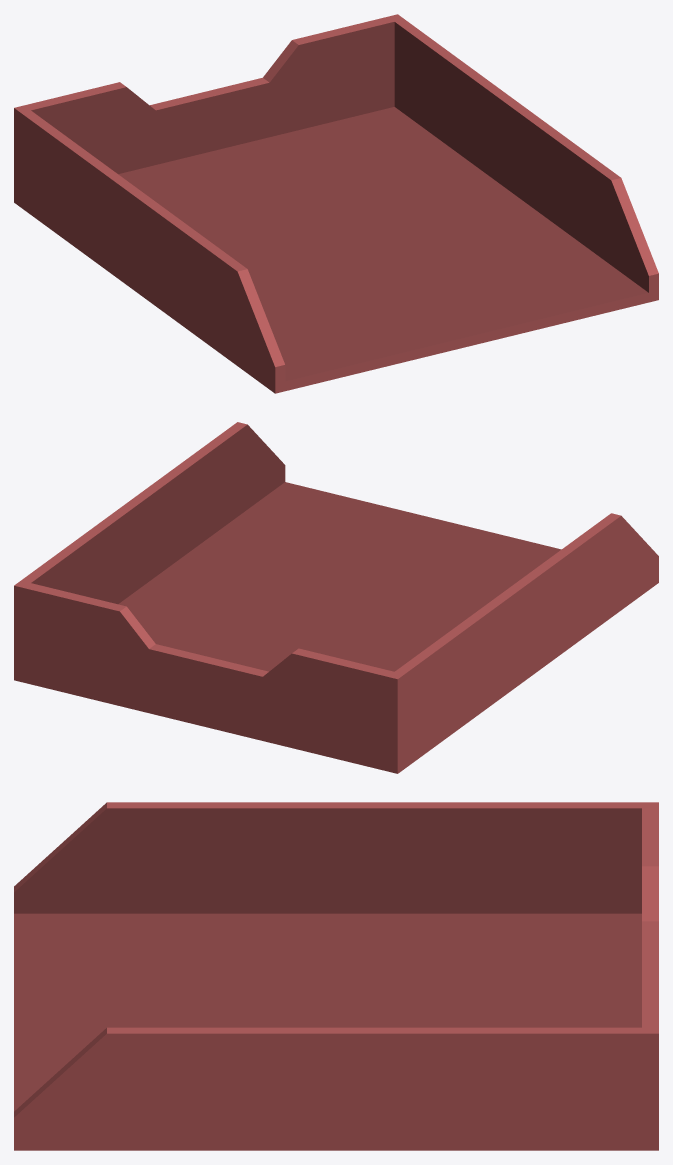
File: Document_Tray_Red.fbx
The picture shows the model from 3 angles, top to bottom: view 1: azimuth 30°, elevation 25°; view 2: azimuth 150°, elevation 25°; view 3: azimuth 270°, elevation 25°; orthographic projection. The views are drawn at different scales.
Parts seen in each view (by area): view 1: File_Paper_Tray.003; view 2: File_Paper_Tray.003; view 3: File_Paper_Tray.003.
Part boxes in pixels (left/top/right/bottom): File_Paper_Tray.003: left=14, top=14, right=658, bottom=393; File_Paper_Tray.003: left=14, top=422, right=658, bottom=773; File_Paper_Tray.003: left=14, top=802, right=658, bottom=1150.
Bounding box in the file's own units: 28 × 6.6 × 33.
